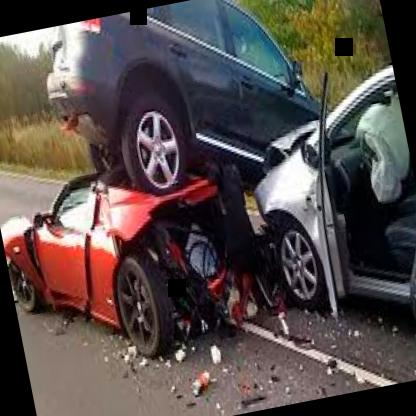accident: (58, 0, 290, 398), (0, 131, 281, 402), (203, 0, 416, 344)
